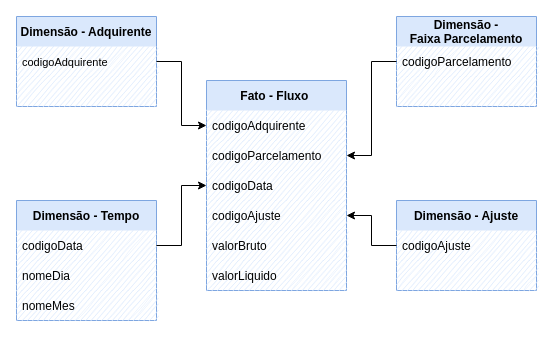
The diagram is 554 pixels wide and 338 high, and some of its shapes have lost their labels. The centre of each missing label's shape, as x and y in pixels:
faixaParcelamento: point 466,91
nomeAdquirente: point 86,91
nomeAjuste: point 466,275
